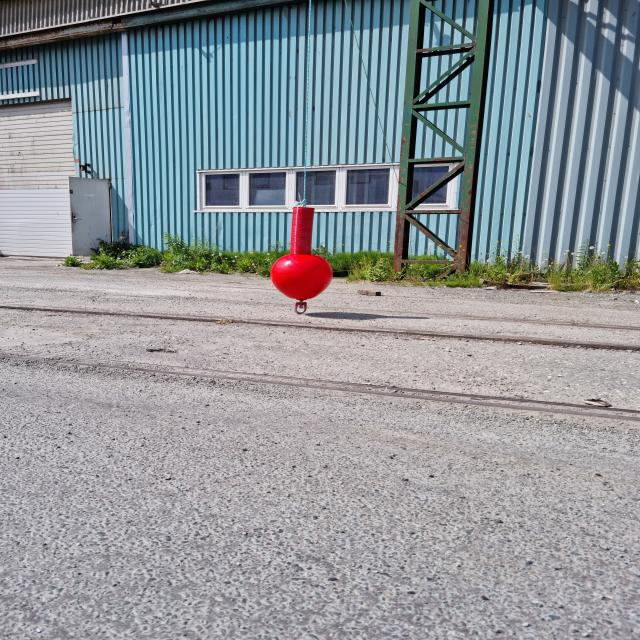red: (271, 207, 334, 300)
